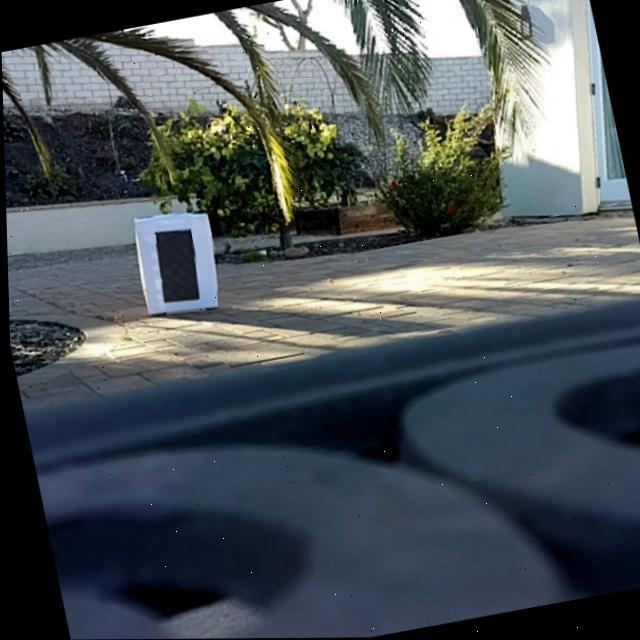led: (148, 224, 203, 305)
